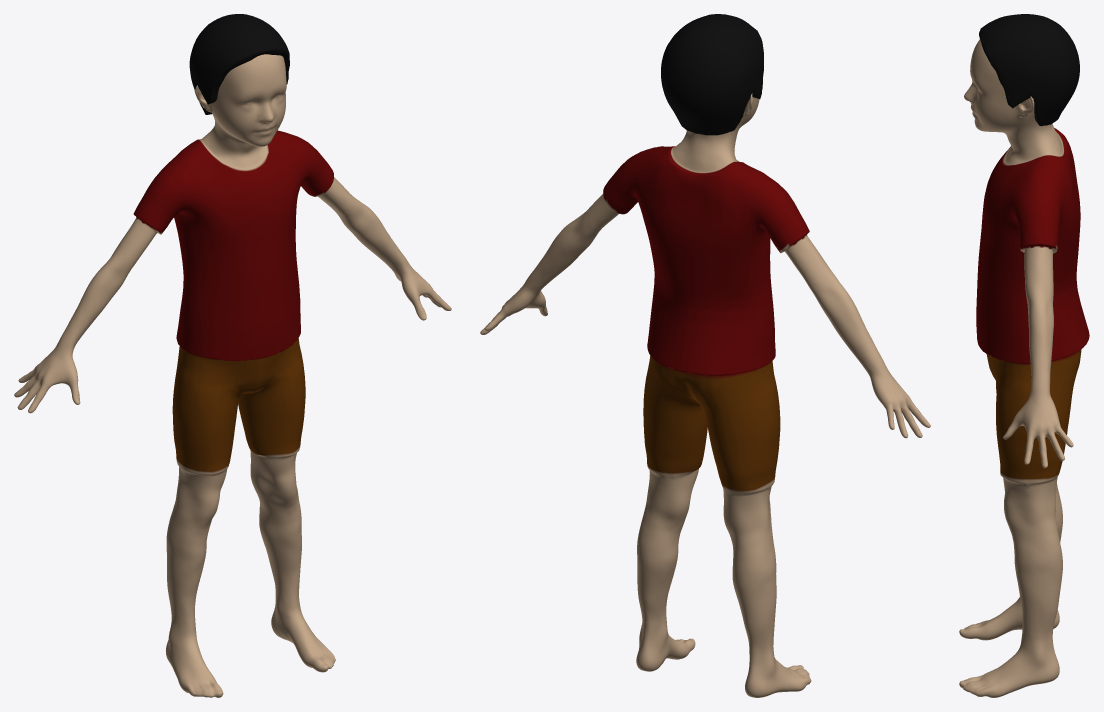
The model's file is character.fbx.
3 views of the same model, side by side, from view 1: azimuth 30°, elevation 25°; view 2: azimuth 150°, elevation 25°; view 3: azimuth 270°, elevation 25° (orthographic). The views are drawn at different scales.
Visible parts, largest first — view 1: character; view 2: character; view 3: character.
Part boxes in pixels (x1,y1,x2,y2): character: [14, 14, 451, 697]; character: [480, 14, 930, 697]; character: [959, 14, 1089, 697].
Size of the model in its own units: 103 by 149 by 27.28.
